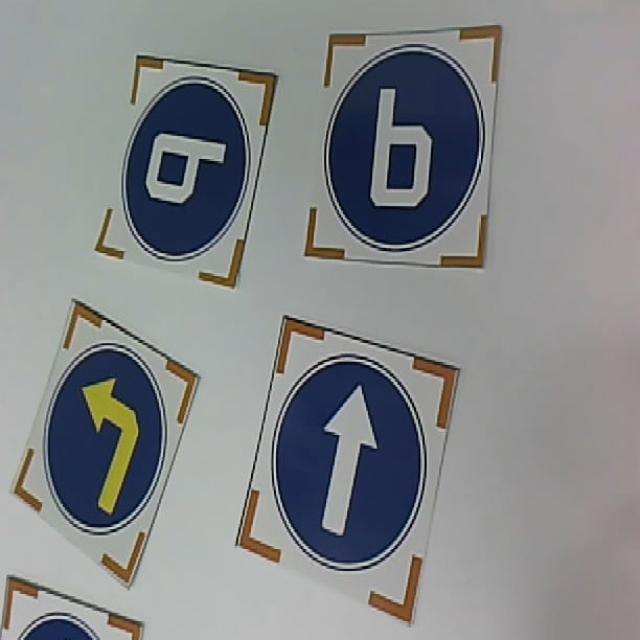parking: (302, 25, 506, 269), (94, 49, 278, 287)
straight: (242, 307, 464, 634)
turn: (14, 302, 199, 580)
